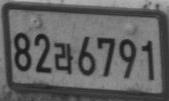1: (139, 39, 158, 80)
2: (33, 32, 52, 73)
6: (77, 36, 96, 75)
7: (97, 37, 116, 77)
8: (13, 31, 32, 71)
9: (117, 37, 137, 78)
라: (53, 42, 73, 74)
